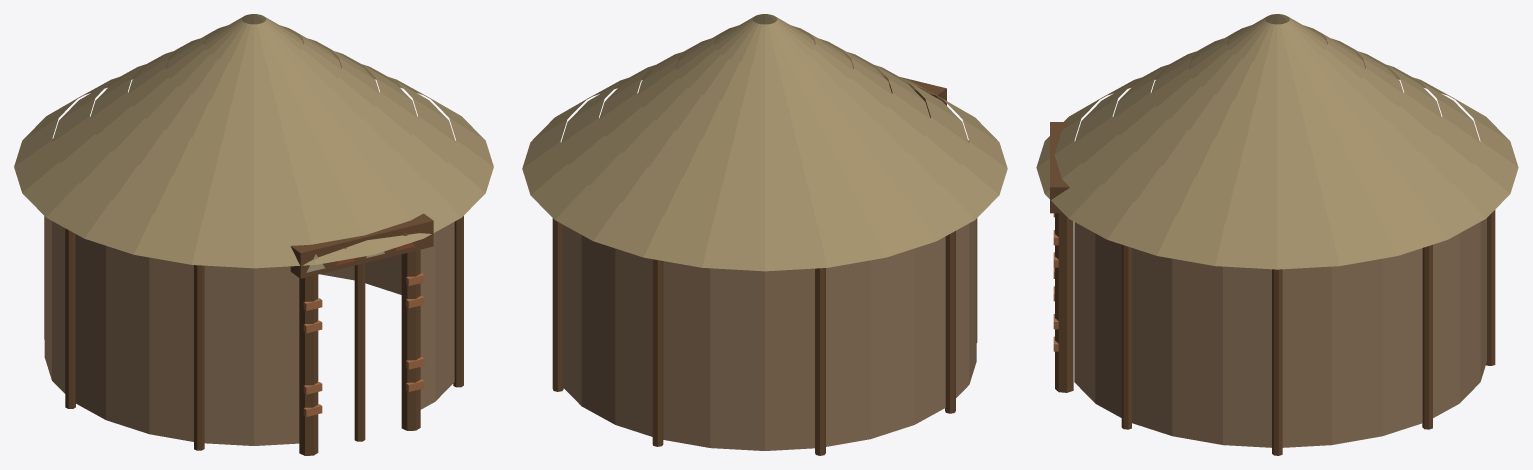
The model's file is crafted_household.glb.
The picture shows the model from 3 angles, left to right: view 1: azimuth 30°, elevation 25°; view 2: azimuth 150°, elevation 25°; view 3: azimuth 270°, elevation 25°; orthographic projection.
Parts seen in each view (by area): view 1: crafted_household; view 2: crafted_household; view 3: crafted_household.
Boxes of the visible parts, x1,y1,x2,y2 form: crafted_household: (14,14,493,455); crafted_household: (522,14,1007,455); crafted_household: (1036,14,1518,455).
Size of the model in its own units: 3.9 by 3.08 by 3.9.
